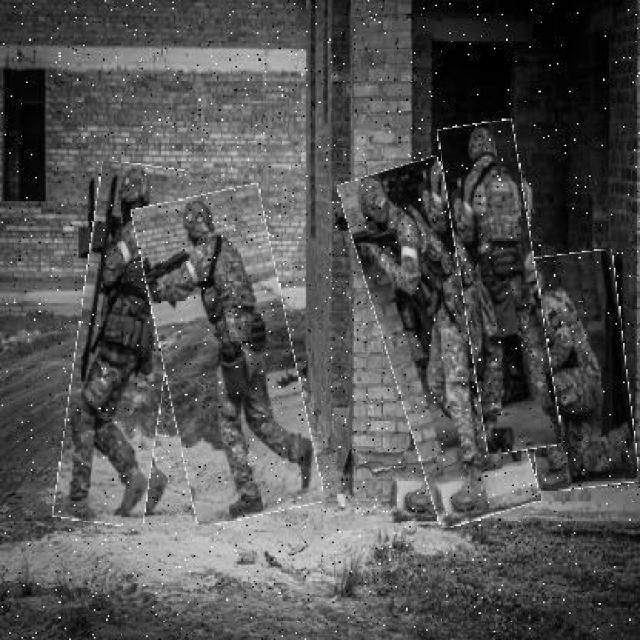Person: (364, 160, 518, 527), (149, 189, 310, 523), (66, 164, 181, 527), (450, 122, 550, 455), (518, 252, 635, 492)
